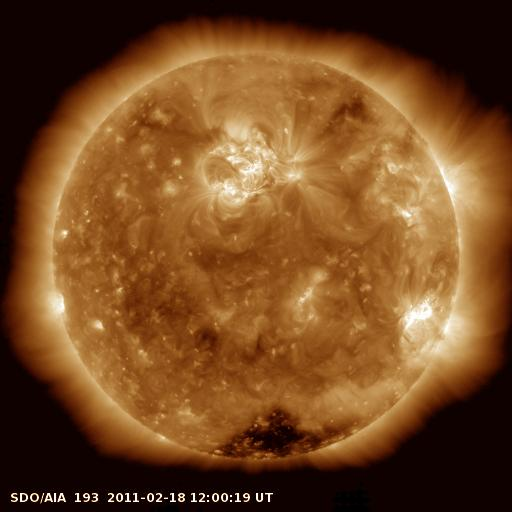coronal_hole: (202, 396, 372, 472)
